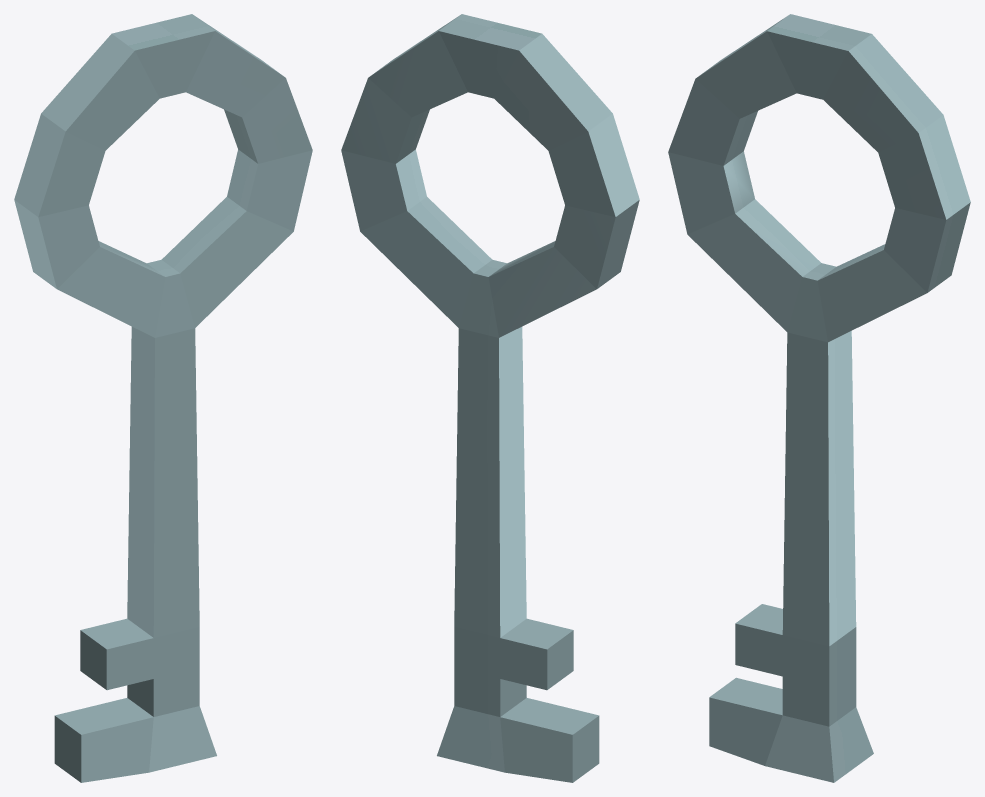
The model's file is Key.glb.
3 views of the same model, side by side, from view 1: azimuth 30°, elevation 25°; view 2: azimuth 150°, elevation 25°; view 3: azimuth 330°, elevation 25° (orthographic).
Visible parts, largest first — view 1: Key; view 2: Key; view 3: Key.
Boxes of the visible parts, box(x1,y1,x2,y2) form: Key: box(14, 14, 312, 782); Key: box(341, 14, 639, 782); Key: box(668, 14, 970, 782).
Bounding box in the file's own units: 0.2212 × 0.5526 × 0.055.
Materials: 1 (1 with a texture image).
